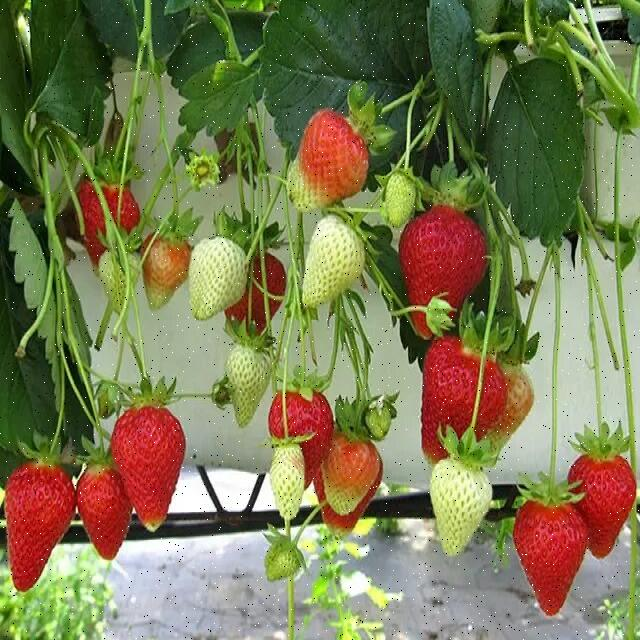Ripe Strawberry: (400, 200, 485, 340), (422, 331, 506, 464), (111, 404, 187, 532), (512, 498, 589, 618), (5, 463, 76, 592), (569, 453, 636, 558), (314, 431, 385, 525), (267, 391, 333, 492), (77, 173, 142, 271), (76, 464, 132, 559), (226, 252, 286, 338)
